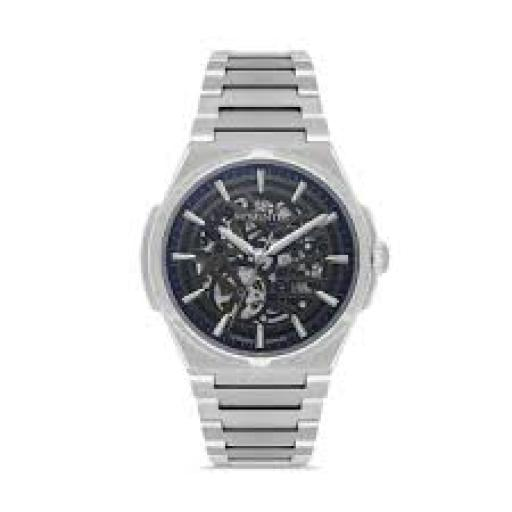KolSaati: (133, 32, 402, 474)
